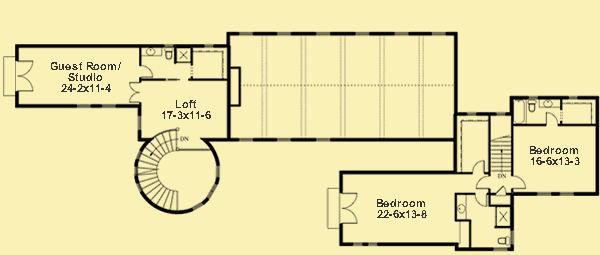door: (12, 57, 33, 91), (340, 192, 358, 226), (128, 79, 142, 106), (474, 190, 490, 207), (471, 160, 487, 176), (544, 111, 560, 126), (510, 176, 527, 190), (139, 64, 155, 78)
large_sink: (496, 234, 511, 248), (162, 45, 174, 61), (527, 101, 539, 113)
small_sink: (455, 193, 467, 220), (142, 46, 163, 60), (538, 98, 561, 109)
stairs: (132, 128, 178, 214), (489, 132, 515, 180)
tub: (513, 98, 527, 126)
